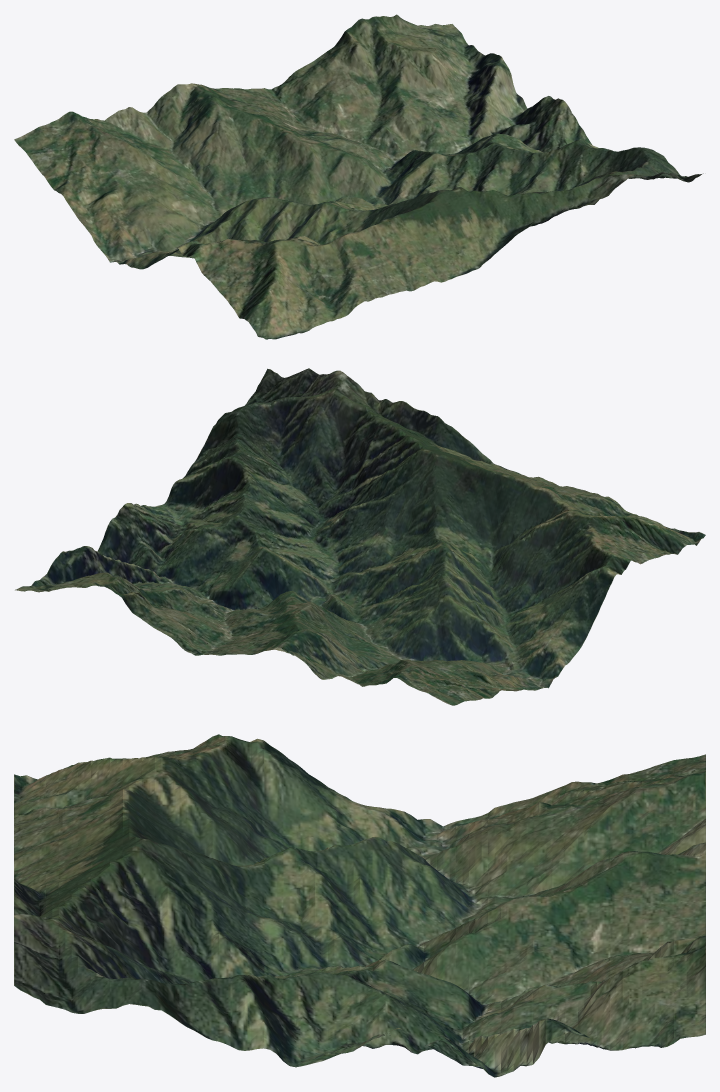
The picture shows the model from 3 angles, top to bottom: view 1: azimuth 30°, elevation 25°; view 2: azimuth 150°, elevation 25°; view 3: azimuth 270°, elevation 25°; orthographic projection. The views are drawn at different scales.
Parts seen in each view (by area): view 1: geometry_0; view 2: geometry_0; view 3: geometry_0.
Boxes of the visible parts, x1,y1,x2,y2 form: geometry_0: (14, 14, 703, 339); geometry_0: (15, 368, 705, 705); geometry_0: (14, 734, 705, 1077).
Size of the model in its own units: 10005 by 2469 by 10010.
1 material, 1 textured.
